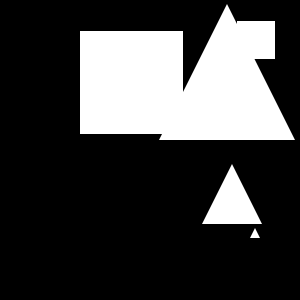circle: (80, 31, 183, 134), (237, 21, 275, 59)
triangle: (159, 4, 295, 140), (202, 164, 262, 224), (250, 228, 260, 238)
